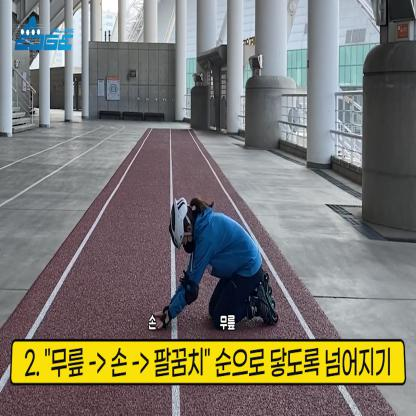Fall_Down: (150, 204, 275, 332)
